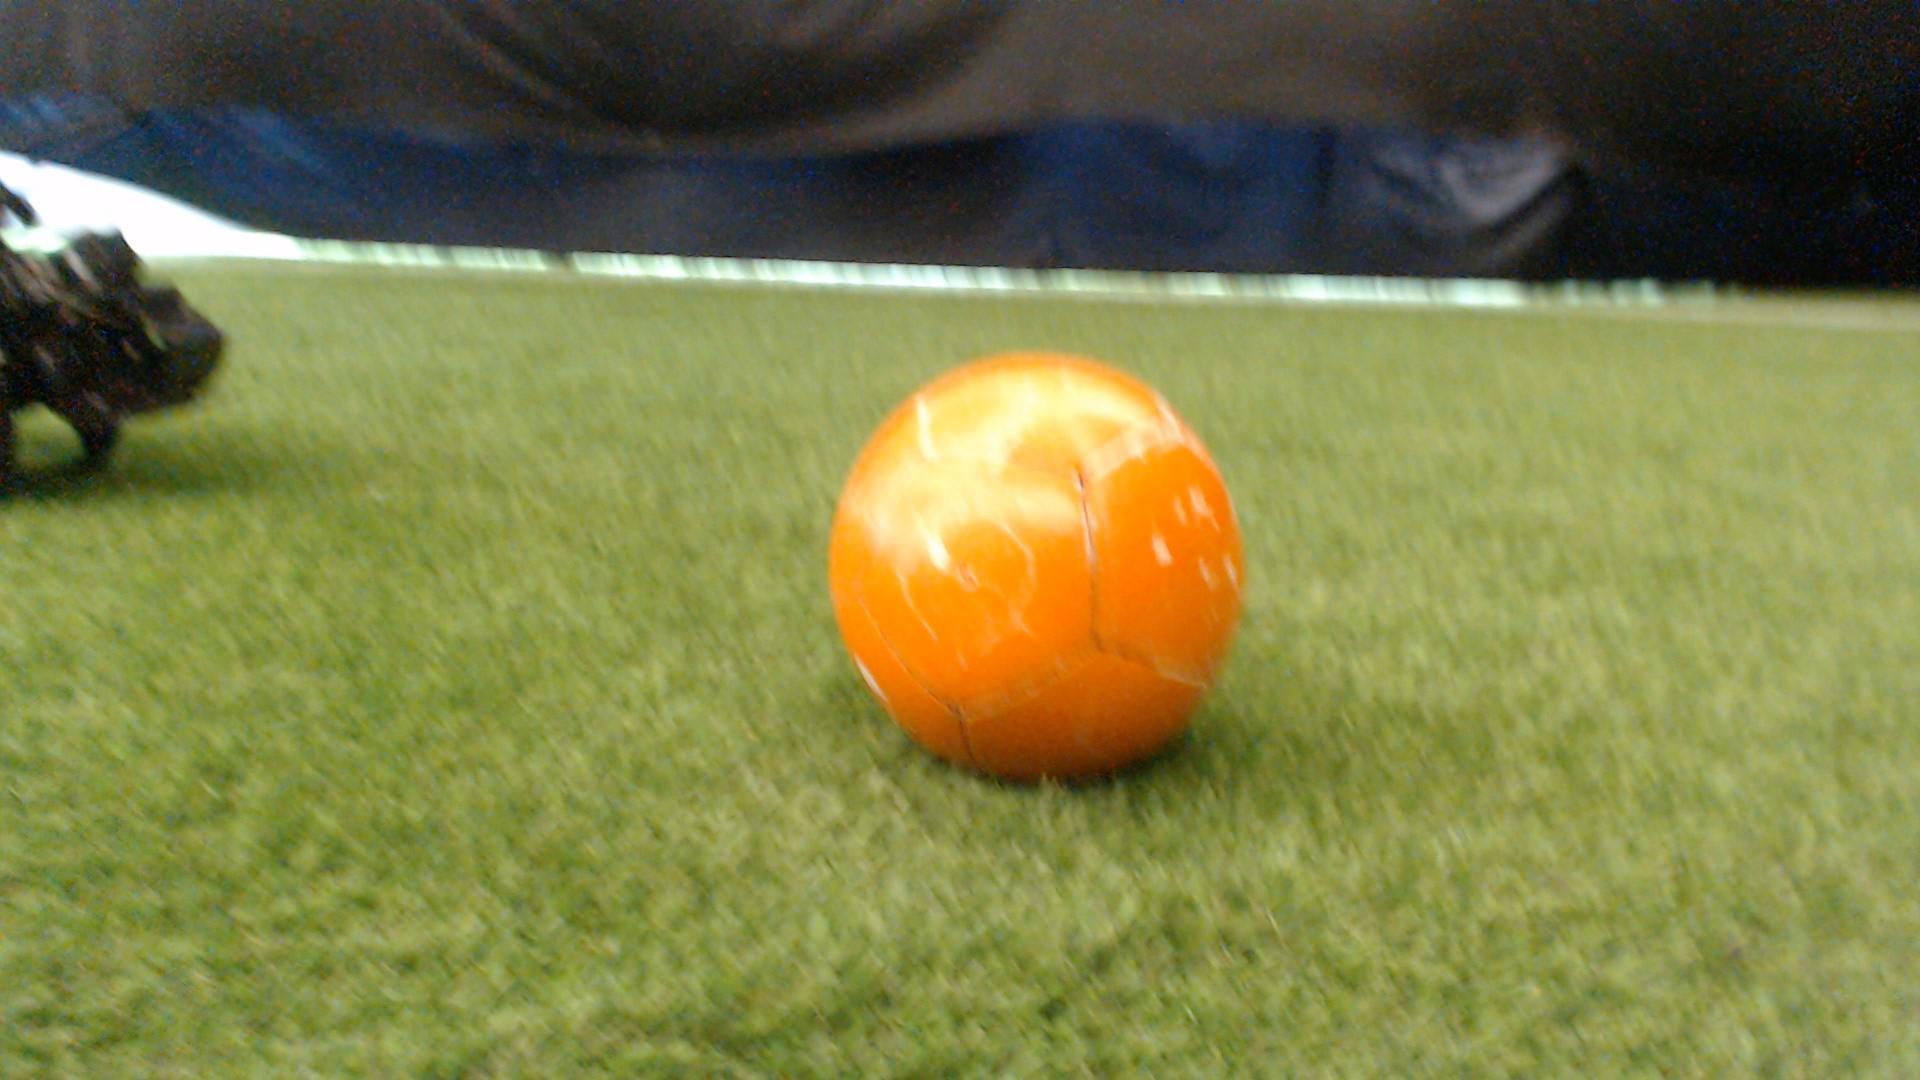bola: (794, 328, 1280, 808)
